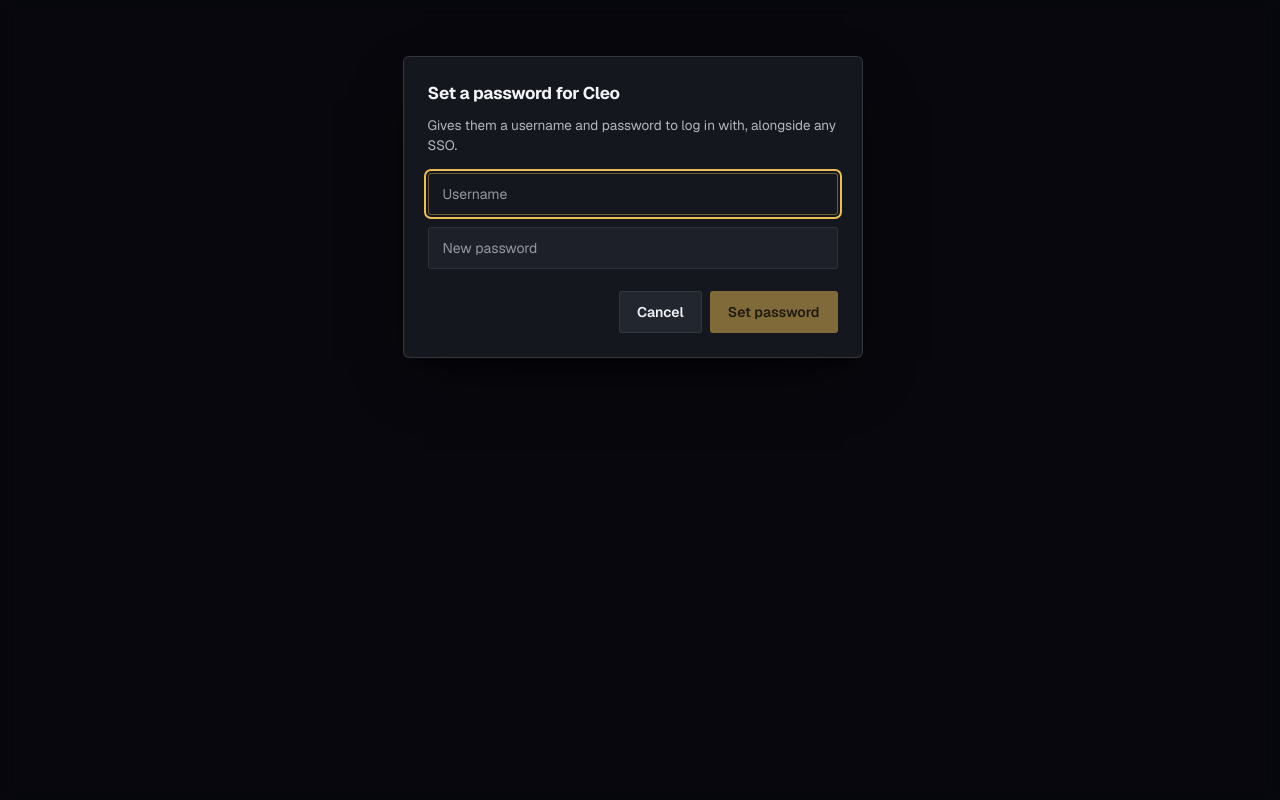
SetLoginDialog › holds the submit shut until both fields are filled
Check: the button "Set password" is disabled, box x1=710 y1=291 x2=838 y2=333
Type "cleo" into the field labelled "Username". click: (632, 194)
box: x1=442 y1=185 x2=822 y2=203
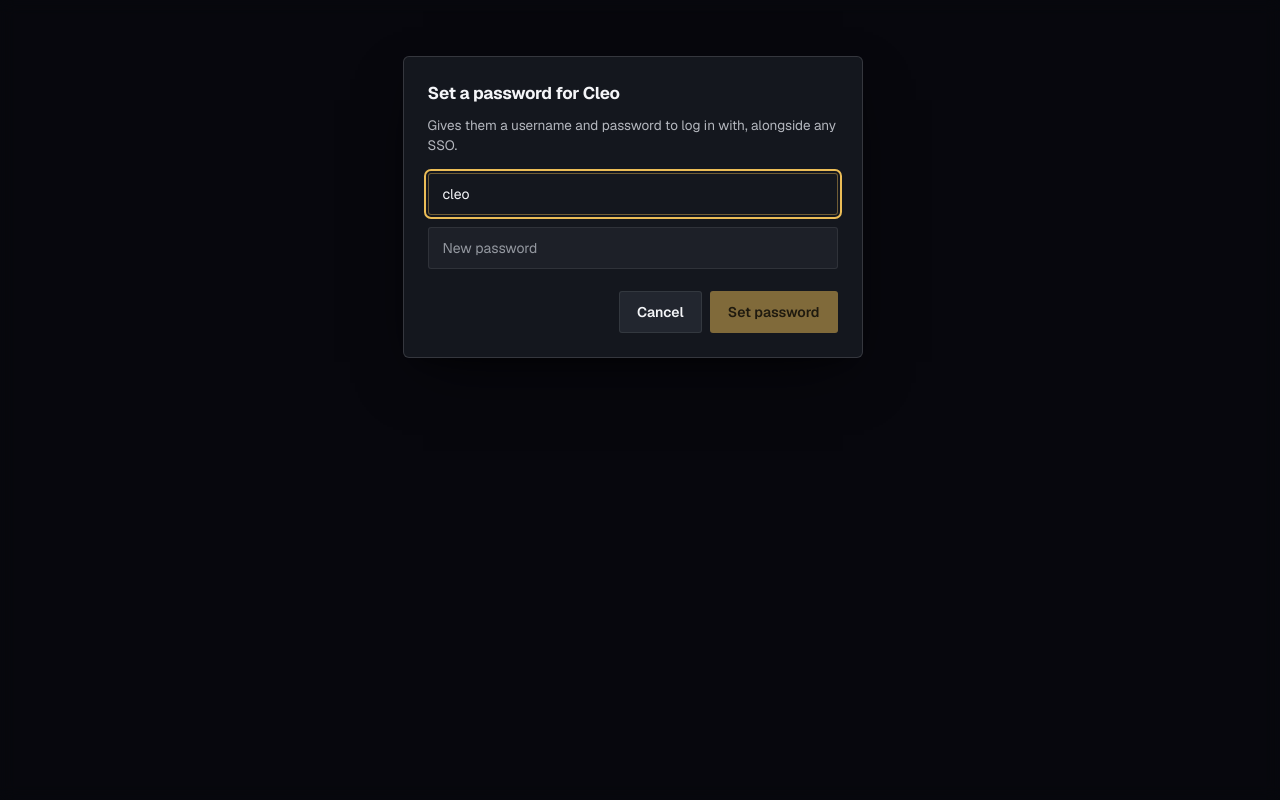
Check: the button "Set password" is disabled, box x1=710 y1=291 x2=838 y2=333
Type "hunter2" into the password field labelled "New password". click: (632, 248)
box: x1=442 y1=239 x2=822 y2=257
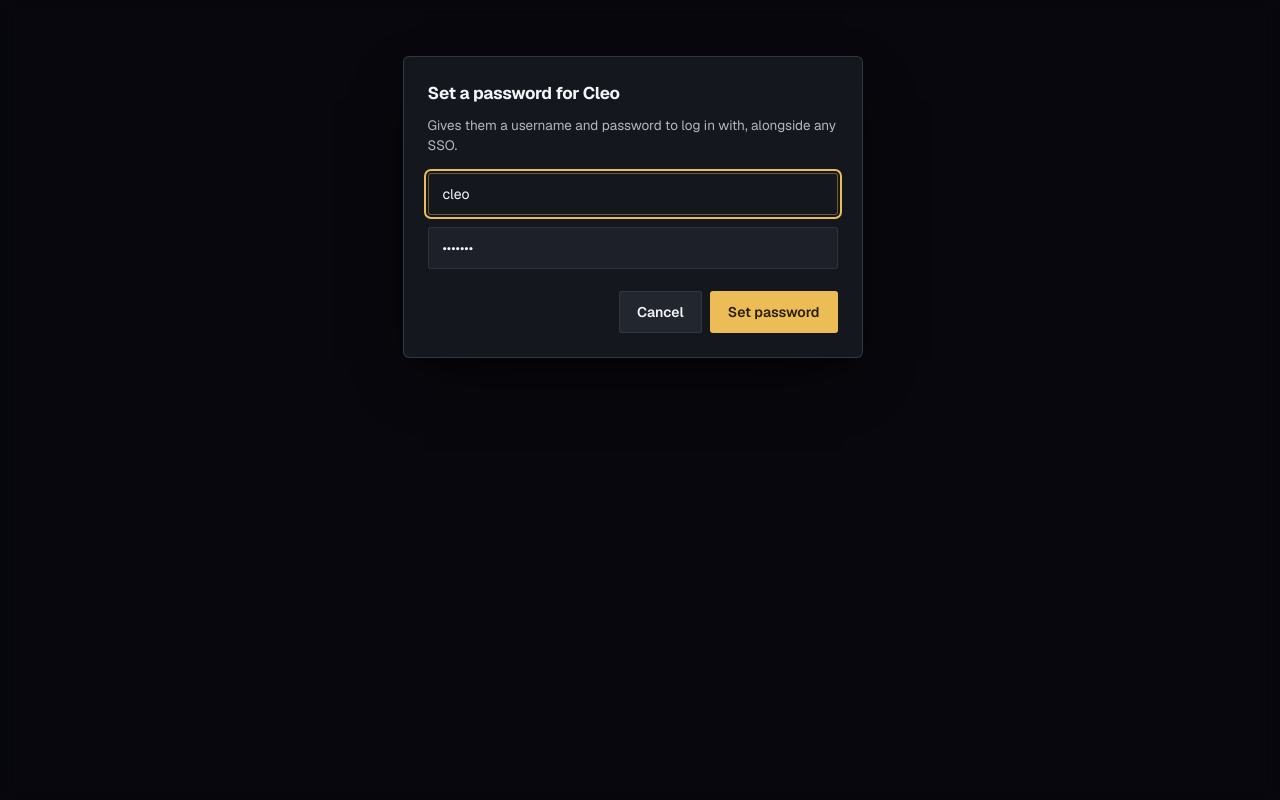
Check: the button "Set password" is enabled, box x1=710 y1=291 x2=838 y2=333
